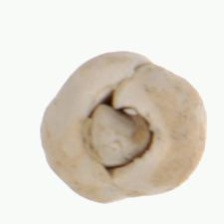L3: (81, 86, 153, 172)
L4: (40, 51, 208, 205)
